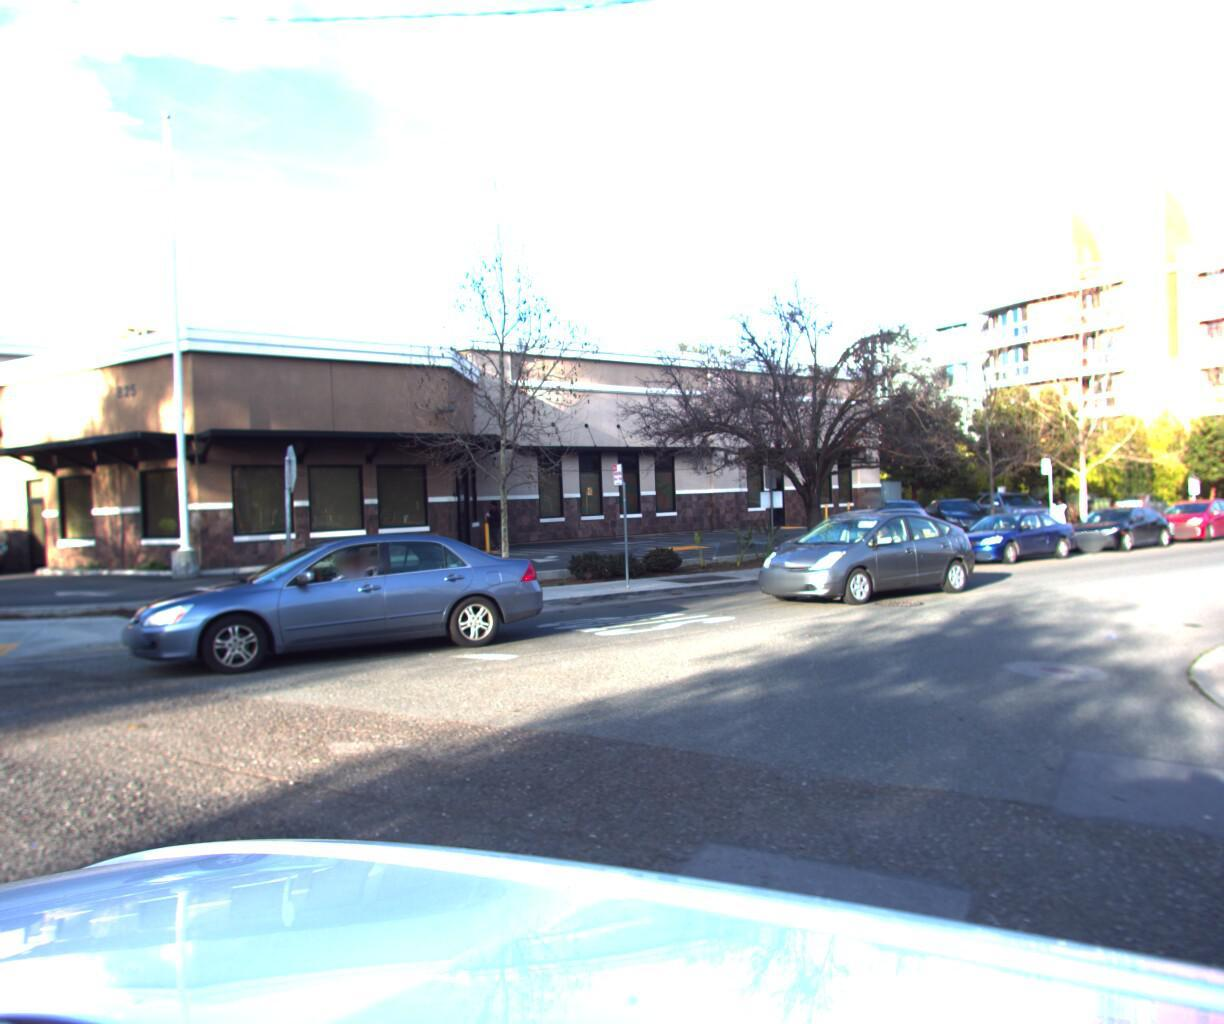car: (97, 507, 551, 699), (751, 501, 988, 612), (762, 499, 959, 588), (928, 500, 1082, 569), (1053, 495, 1180, 551), (971, 485, 1060, 532), (1141, 491, 1224, 541), (857, 495, 947, 541), (914, 493, 1001, 536), (1108, 487, 1179, 519), (0, 519, 20, 583)
